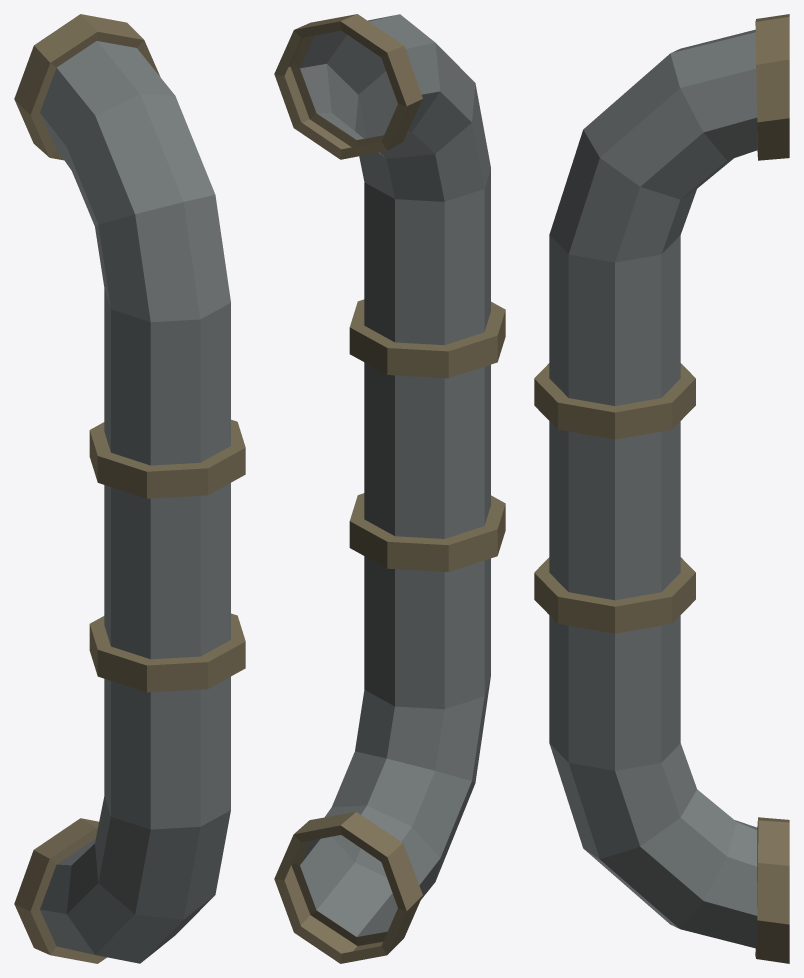
Rendered from tuberia_4.fbx.
3 views of the same model, side by side, from view 1: azimuth 30°, elevation 25°; view 2: azimuth 150°, elevation 25°; view 3: azimuth 270°, elevation 25° (orthographic).
Parts seen in each view (by area): view 1: Tuberia.003; view 2: Tuberia.003; view 3: Tuberia.003.
Boxes of the visible parts, bbox=[...] form: Tuberia.003: bbox=[14, 14, 245, 963]; Tuberia.003: bbox=[274, 14, 505, 963]; Tuberia.003: bbox=[534, 14, 789, 963].
Size of the model in its own units: 58.59 by 377 by 92.56.
